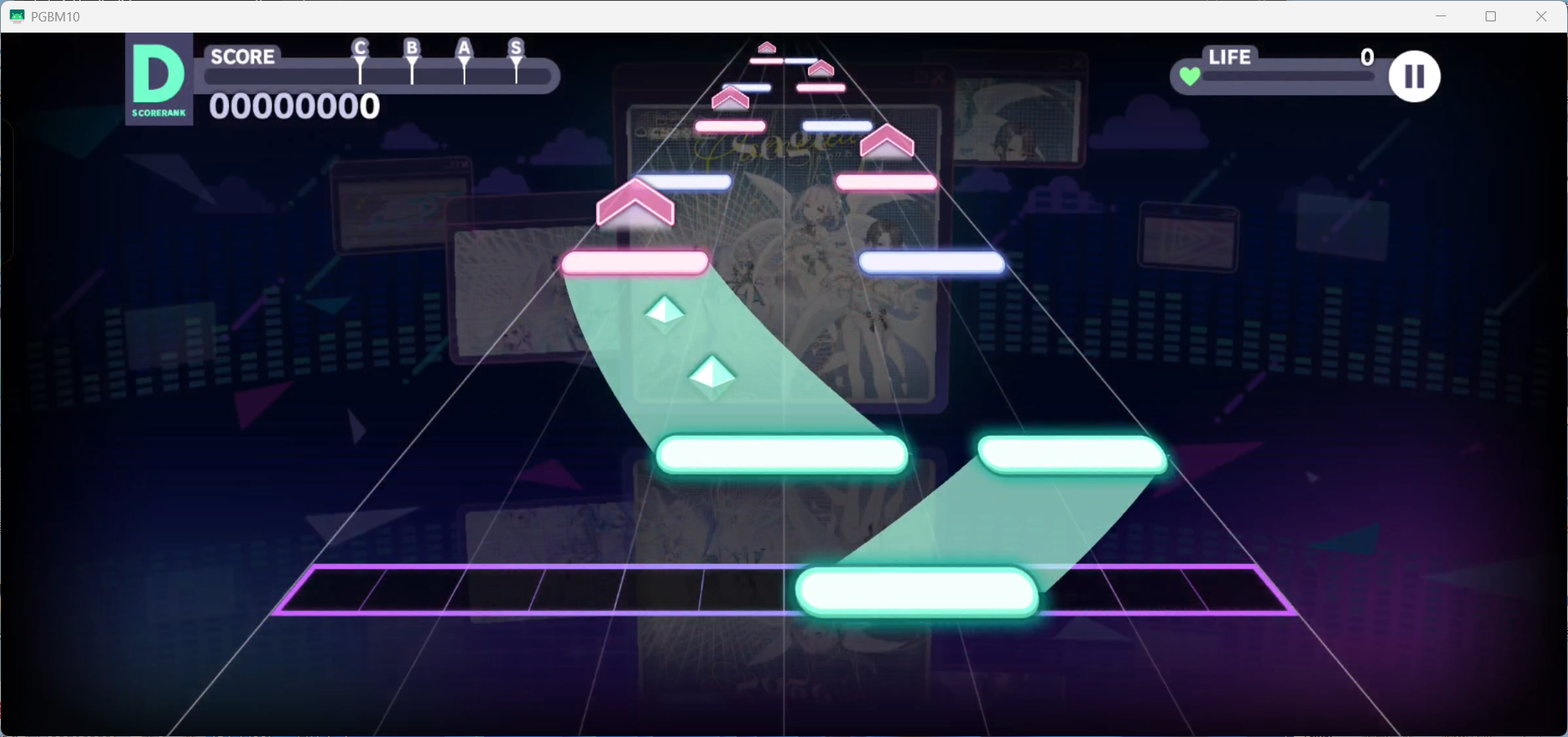flick: (596, 178, 675, 231), (859, 122, 915, 162), (711, 86, 750, 112), (757, 41, 777, 55)
hold: (560, 275, 884, 432), (831, 475, 1154, 565)
sweep: (689, 355, 736, 402), (646, 294, 685, 335)
tap: (796, 567, 1039, 620), (654, 435, 910, 474), (976, 435, 1167, 474), (562, 250, 709, 278), (856, 251, 1006, 276), (630, 174, 732, 190), (836, 175, 938, 190), (695, 121, 766, 132), (803, 121, 872, 132), (723, 83, 771, 93), (796, 84, 845, 93), (750, 57, 783, 65), (784, 57, 819, 64)
